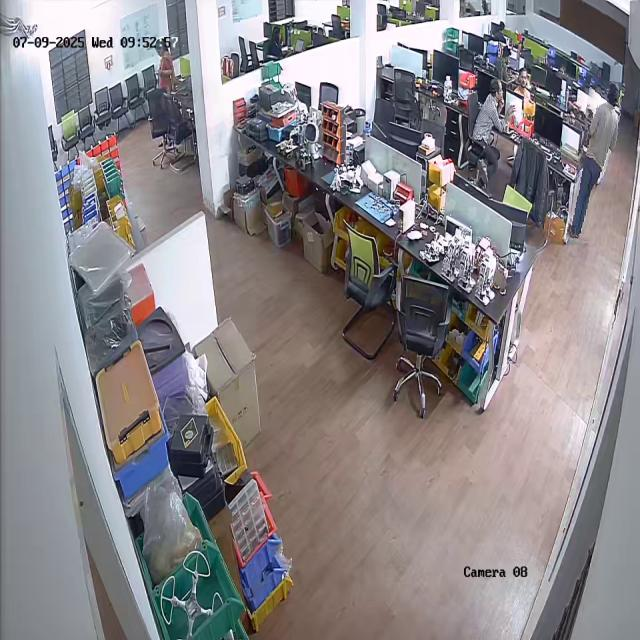person: (572, 79, 619, 244)
